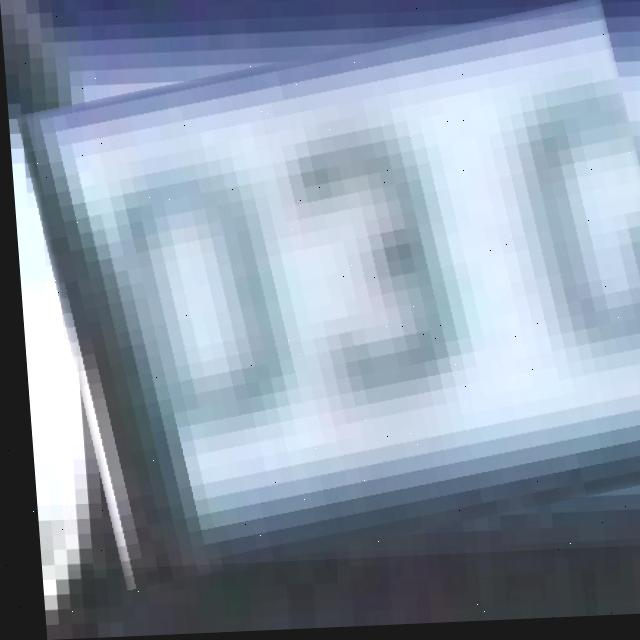LicensePlate: (28, 22, 640, 571)
